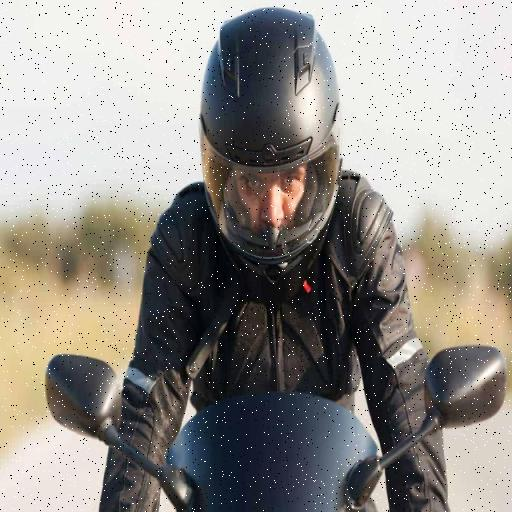Helmet: (181, 34, 359, 282)
